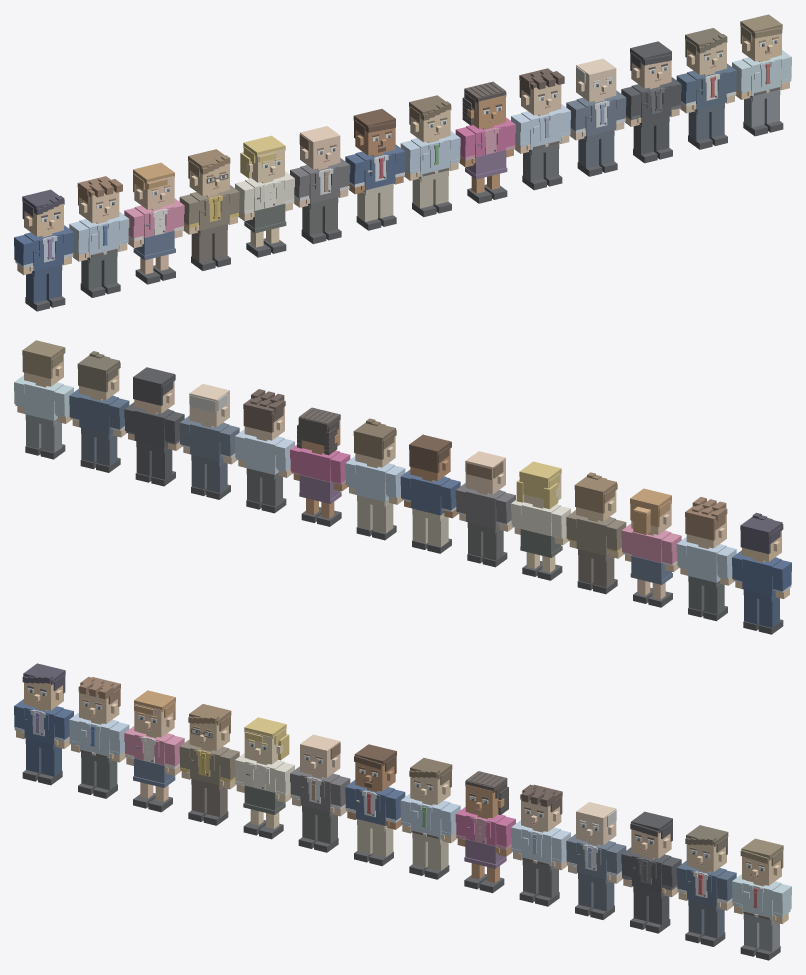
The model's file is office_cast_lineup.glb.
3 views of the same model, one above another, from view 1: azimuth 30°, elevation 25°; view 2: azimuth 150°, elevation 25°; view 3: azimuth 330°, elevation 25° (orthographic).
Parts seen in each view (by area): view 1: 06_charcoal_manager_head, 11_senior_suit_head, 10_pale_blue_shirt_head, 02_blue_shirt_head, 09_magenta_cardigan_head, 03_pink_cardigan_head, 13_red_tie_suit_head, 08_green_tie_head, 04_glasses_brown_suit_head, 01_navy_manager_head, 12_black_suit_head, 14_mustache_shirt_head (+30 smaller); view 2: 12_black_suit_torso, 08_green_tie_torso, 04_glasses_brown_suit_torso, 13_red_tie_suit_torso, 11_senior_suit_torso, 14_mustache_shirt_torso, 06_charcoal_manager_torso, 01_navy_manager_torso, 02_blue_shirt_torso, 07_navy_red_tie_torso, 10_pale_blue_shirt_torso, 06_charcoal_manager_head (+33 smaller); view 3: 06_charcoal_manager_head, 11_senior_suit_head, 02_blue_shirt_head, 09_magenta_cardigan_head, 10_pale_blue_shirt_head, 08_green_tie_head, 13_red_tie_suit_head, 03_pink_cardigan_head, 01_navy_manager_head, 04_glasses_brown_suit_head, 12_black_suit_head, 02_blue_shirt_torso (+29 smaller).
Boxes of the visible parts, x1,y1,x2,y2 form: 06_charcoal_manager_head: [300, 126, 340, 169]; 11_senior_suit_head: [576, 58, 616, 101]; 10_pale_blue_shirt_head: [521, 83, 561, 115]; 02_blue_shirt_head: [79, 190, 119, 223]; 09_magenta_cardigan_head: [473, 95, 505, 128]; 03_pink_cardigan_head: [134, 176, 174, 209]; 13_red_tie_suit_head: [686, 42, 726, 74]; 08_green_tie_head: [410, 109, 450, 142]; 04_glasses_brown_suit_head: [189, 163, 229, 196]; 01_navy_manager_head: [24, 204, 63, 236]; 12_black_suit_head: [631, 60, 671, 88]; 14_mustache_shirt_head: [742, 33, 781, 61]; 12_black_suit_torso: [134, 408, 174, 447]; 08_green_tie_torso: [355, 462, 394, 501]; 04_glasses_brown_suit_torso: [576, 516, 615, 555]; 13_red_tie_suit_torso: [79, 394, 118, 434]; 11_senior_suit_torso: [190, 421, 229, 461]; 14_mustache_shirt_torso: [24, 381, 63, 420]; 06_charcoal_manager_torso: [466, 489, 505, 528]; 01_navy_manager_torso: [742, 556, 781, 596]; 02_blue_shirt_torso: [687, 543, 726, 582]; 07_navy_red_tie_torso: [411, 475, 450, 515]; 10_pale_blue_shirt_torso: [245, 435, 284, 474]; 06_charcoal_manager_head: [465, 451, 505, 494]; 06_charcoal_manager_head: [300, 734, 340, 777]; 11_senior_suit_head: [576, 802, 616, 845]; 02_blue_shirt_head: [79, 690, 119, 723]; 09_magenta_cardigan_head: [465, 784, 498, 818]; 10_pale_blue_shirt_head: [521, 798, 561, 831]; 08_green_tie_head: [410, 777, 450, 804]; 13_red_tie_suit_head: [686, 844, 726, 872]; 03_pink_cardigan_head: [134, 703, 174, 737]; 01_navy_manager_head: [24, 682, 63, 710]; 04_glasses_brown_suit_head: [189, 723, 229, 750]; 12_black_suit_head: [631, 829, 671, 858]; 02_blue_shirt_torso: [79, 719, 118, 758].
Size of the model in its own units: 14.47 by 1.94 by 0.67.
